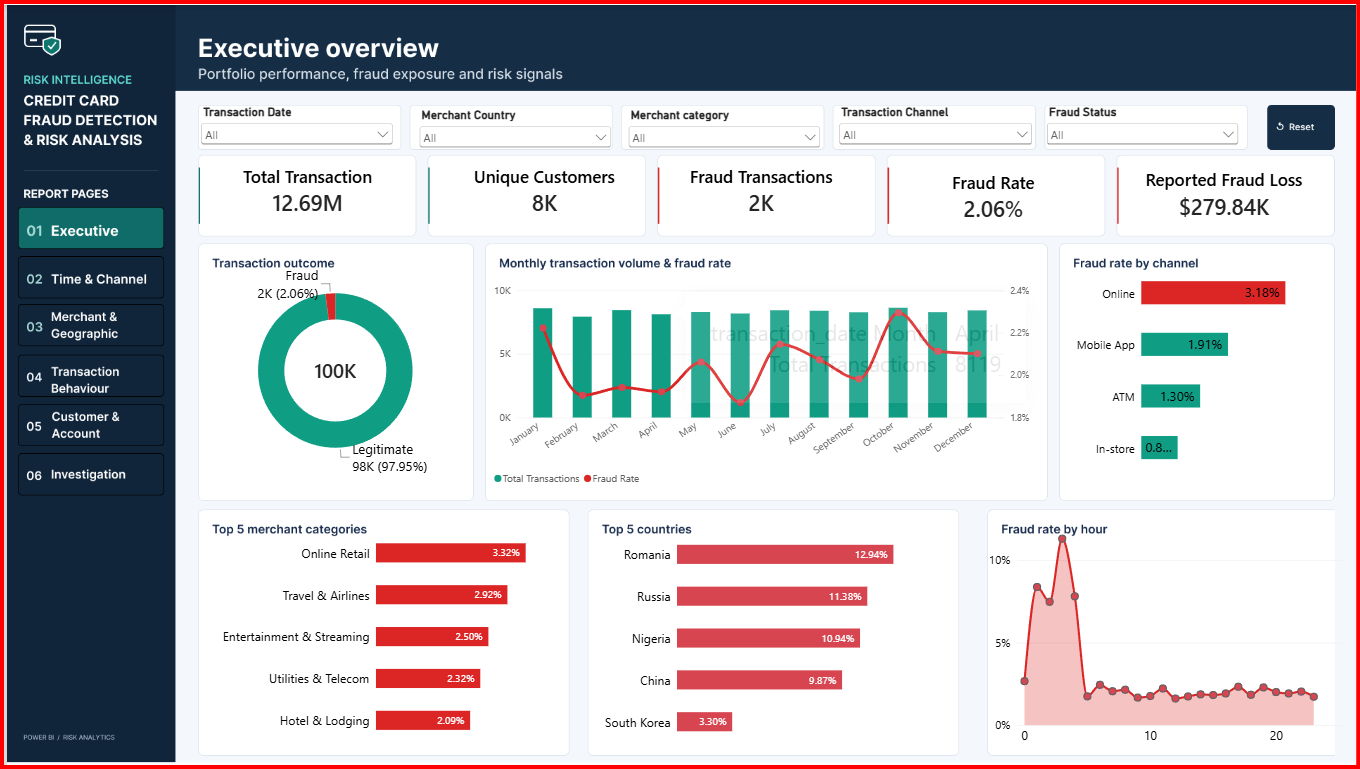

Layout of this report page (visuals, bound fields, positions):
{"tool":"powerbi","page":{"name":"Page 1","canvas":[1920,1080],"ordinal":0},"visuals":[{"type":"shape","box":[16,287.6,212,61.2],"z":0,"group":"g1"},{"type":"group","id":"g1","title":"Group 1","box":[16,287.6,212,415.2],"z":0},{"type":"cardVisual","fields":{"Data":["credit_card_fraud.Total Transaction Value"]},"box":[273.3,212.1,308.7,106],"z":1000},{"type":"shape","box":[16,348.8,212,61.2],"z":1000,"group":"g1"},{"type":"cardVisual","fields":{"Data":["credit_card_fraud.Unique Customers"]},"box":[610.3,212.1,308.7,106],"z":2000},{"type":"shape","box":[16,418.7,212,61.2],"z":2000,"group":"g1"},{"type":"cardVisual","fields":{"Data":["credit_card_fraud.Fraud Transactions"]},"box":[919,212.1,308.7,106],"z":3000},{"type":"shape","box":[16,504,212,61.2],"z":3000,"group":"g1"},{"type":"cardVisual","fields":{"Data":["credit_card_fraud.Fraud Rate"]},"box":[1248.9,221.5,308.7,106],"z":4000},{"type":"shape","box":[16,565.2,212,61.2],"z":4000,"group":"g1"},{"type":"cardVisual","fields":{"Data":["credit_card_fraud.Reported Fraud Amount Lost"]},"box":[1576.4,212.1,308.7,115.5],"z":5000},{"type":"shape","box":[16,641.6,212,61.2],"z":5000,"group":"g1"},{"type":"donutChart","fields":{"Category":["credit_card_fraud.Fraud Status Label"],"Y":["credit_card_fraud.Total Transactions"]},"box":[273.3,339.3,386.4,362.9],"z":6000},{"type":"lineClusteredColumnComboChart","fields":{"Category":["credit_card_fraud.transaction_date.Variation.Date Hierarchy.Month"],"Y":["credit_card_fraud.Total Transactions"],"Y2":["credit_card_fraud.Fraud Rate"]},"box":[676.3,379.4,796.4,322.8],"z":7000},{"type":"clusteredBarChart","fields":{"Category":["credit_card_fraud.transaction_channel"],"Y":["credit_card_fraud.Fraud Rate"]},"box":[1496.3,341.7,388.8,353.4],"z":8000},{"type":"clusteredBarChart","fields":{"Category":["credit_card_fraud.merchant_category"],"Y":["credit_card_fraud.Fraud Rate"]},"box":[273.3,718.7,523.1,353.4],"z":9000},{"type":"clusteredBarChart","fields":{"Category":["credit_card_fraud.merchant_country"],"Y":["credit_card_fraud.Fraud Rate"]},"box":[825.2,721.3,522.4,353.2],"z":10000},{"type":"lineChart","fields":{"Category":["credit_card_fraud.transaction_hour_from_datetime"],"Y":["credit_card_fraud.Fraud Rate"]},"box":[1380,720,540,353.3],"z":11000},{"type":"shape","box":[1793.2,140.9,93.2,70.5],"z":12000},{"type":"slicer","fields":{"Values":["credit_card_fraud.transaction_date.Variation.Date Hierarchy.Month","credit_card_fraud.transaction_date.Variation.Date Hierarchy.Day"]},"box":[272,142,282,68],"z":13000,"group":"g2"},{"type":"slicer","fields":{"Values":["credit_card_fraud.merchant_country"]},"box":[582,146,282,60],"z":14000,"group":"g2"},{"type":"slicer","fields":{"Values":["credit_card_fraud.transaction_channel"]},"box":[1180,142,284,66],"z":15000,"group":"g2"},{"type":"slicer","fields":{"Values":["credit_card_fraud.Fraud Status Label"]},"box":[1474,142,282,68],"z":16000,"group":"g2"},{"type":"slicer","fields":{"Values":["credit_card_fraud.merchant_category"]},"box":[880,146,282,68],"z":17000,"group":"g2"},{"type":"group","id":"g2","title":"Group 2","box":[272,142,1484,72],"z":17001}]}

Visuals, with their boxes on the page's 1920x1080 design canvas (x1, y1, x2, y2). These are canvas units, not pixel positions in the 1360x769 screenshot, which may show the page scaled, cropped or inside an application window:
shape: crop(16, 288, 228, 349)
"Group 1" group: crop(16, 288, 228, 703)
cardVisual - credit_card_fraud.Total Transaction Value: crop(273, 212, 582, 318)
shape: crop(16, 349, 228, 410)
cardVisual - credit_card_fraud.Unique Customers: crop(610, 212, 919, 318)
shape: crop(16, 419, 228, 480)
cardVisual - credit_card_fraud.Fraud Transactions: crop(919, 212, 1228, 318)
shape: crop(16, 504, 228, 565)
cardVisual - credit_card_fraud.Fraud Rate: crop(1249, 222, 1558, 328)
shape: crop(16, 565, 228, 626)
cardVisual - credit_card_fraud.Reported Fraud Amount Lost: crop(1576, 212, 1885, 328)
shape: crop(16, 642, 228, 703)
donutChart - credit_card_fraud.Fraud Status Label x credit_card_fraud.Total Transactions: crop(273, 339, 660, 702)
lineClusteredColumnComboChart - credit_card_fraud.transaction_date.Variation.Date Hierarchy.Month x credit_card_fraud.Total Transactions: crop(676, 379, 1473, 702)
clusteredBarChart - credit_card_fraud.transaction_channel x credit_card_fraud.Fraud Rate: crop(1496, 342, 1885, 695)
clusteredBarChart - credit_card_fraud.merchant_category x credit_card_fraud.Fraud Rate: crop(273, 719, 796, 1072)
clusteredBarChart - credit_card_fraud.merchant_country x credit_card_fraud.Fraud Rate: crop(825, 721, 1348, 1074)
lineChart - credit_card_fraud.transaction_hour_from_datetime x credit_card_fraud.Fraud Rate: crop(1380, 720, 1920, 1073)
shape: crop(1793, 141, 1886, 211)
slicer - credit_card_fraud.transaction_date.Variation.Date Hierarchy.Month x credit_card_fraud.transaction_date.Variation.Date Hierarchy.Day: crop(272, 142, 554, 210)
slicer - credit_card_fraud.merchant_country: crop(582, 146, 864, 206)
slicer - credit_card_fraud.transaction_channel: crop(1180, 142, 1464, 208)
slicer - credit_card_fraud.Fraud Status Label: crop(1474, 142, 1756, 210)
slicer - credit_card_fraud.merchant_category: crop(880, 146, 1162, 214)
"Group 2" group: crop(272, 142, 1756, 214)
